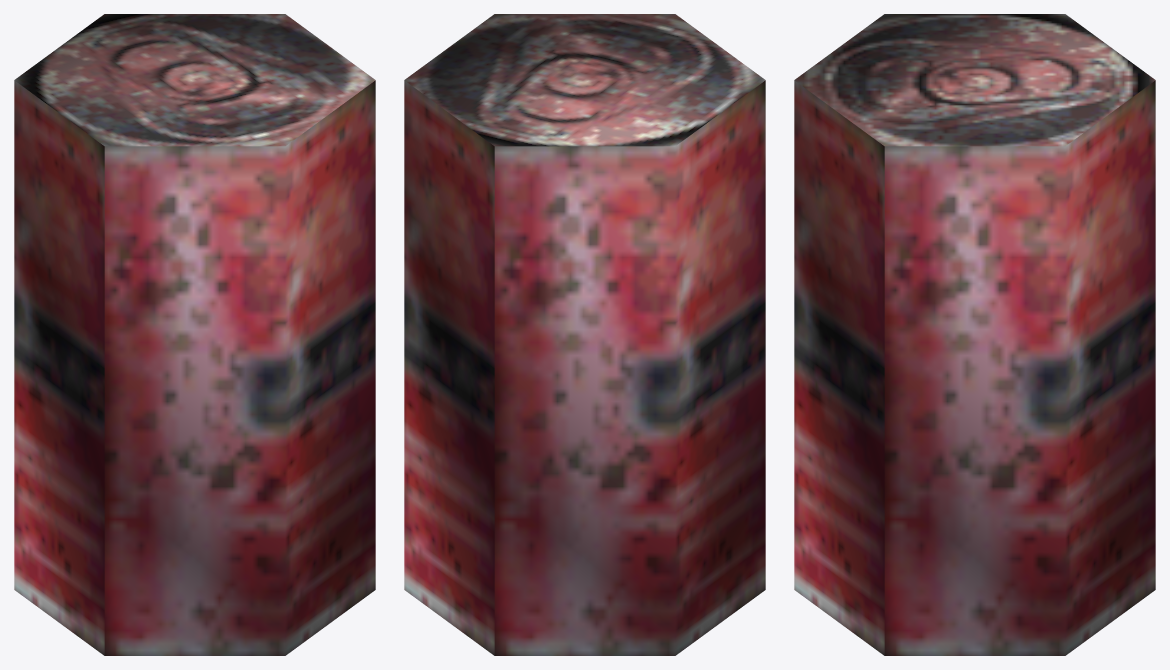
Rendered from can_1.glb.
3 renders of one model, left to right at view 1: azimuth 30°, elevation 25°; view 2: azimuth 150°, elevation 25°; view 3: azimuth 270°, elevation 25°, orthographic.
Parts seen in each view (by area): view 1: Can_1; view 2: Can_1; view 3: Can_1.
Boxes of the visible parts, box(x1,y1,x2,y2) form: Can_1: box(14, 14, 375, 655); Can_1: box(404, 14, 765, 655); Can_1: box(794, 14, 1155, 655).
Size of the model in its own units: 0.1956 by 0.3512 by 0.2259.
Materials: 1 (1 with a texture image).
